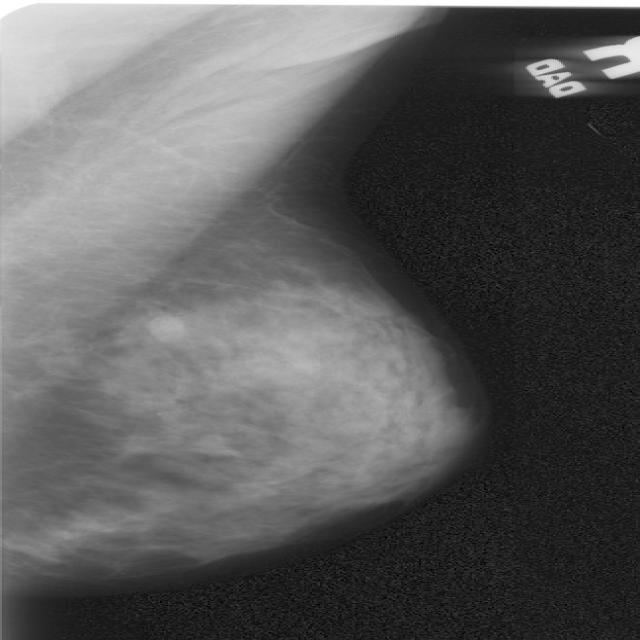tumour: (140, 310, 188, 340)
